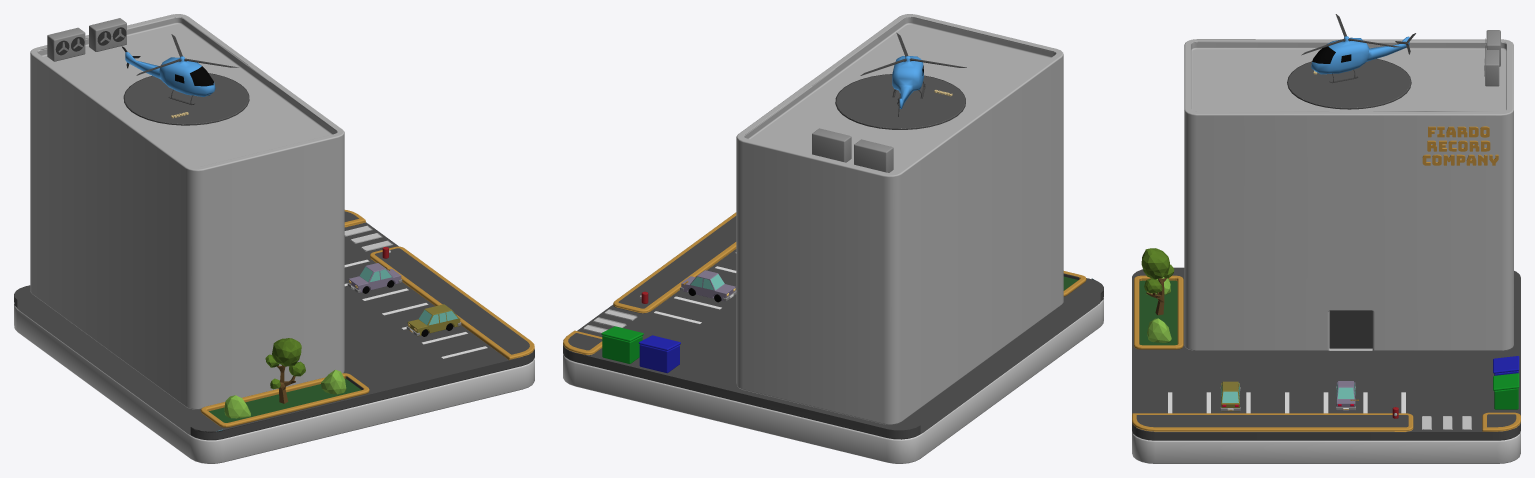
The model's file is record_company_draco.glb.
3 views of the same model, side by side, from view 1: azimuth 30°, elevation 25°; view 2: azimuth 150°, elevation 25°; view 3: azimuth 270°, elevation 25° (orthographic). The views are drawn at different scales.
Parts seen in each view (by area): view 1: building, building.003, base, asphalt, pavement, Cylinder.001, Tree1, Cube.002, Cube, air-con, air-con.001, asphalt.002; view 2: building, base, building.003, asphalt, pavement, Cylinder.001, Cube, air-con.001, air-con, pavement.001; view 3: building, building.003, base, pavement, asphalt, Cylinder.001, company-name, Tree1, asphalt.002, pavement.001, Cube.002, Cube (+2 smaller).
Part boxes in pixels (x1,y1,x2,y2): building: (30, 14, 344, 409); building.003: (14, 222, 508, 431); base: (14, 225, 534, 463); asphalt: (14, 294, 534, 440); pavement: (370, 246, 534, 360); Cylinder.001: (121, 34, 238, 104); Tree1: (265, 338, 305, 403); Cube.002: (406, 304, 461, 336); Cube: (347, 263, 402, 293); air-con: (47, 27, 85, 61); air-con.001: (89, 18, 126, 51); asphalt.002: (344, 259, 487, 358); building: (736, 14, 1063, 424); base: (563, 298, 1103, 463); building.003: (577, 249, 1103, 430); asphalt: (563, 278, 1103, 439); pavement: (613, 212, 736, 313); Cylinder.001: (860, 32, 966, 116); Cube: (680, 270, 736, 302); air-con.001: (812, 128, 851, 162); air-con: (854, 139, 893, 172); pavement.001: (563, 330, 602, 355); building: (1184, 39, 1513, 350); building.003: (1132, 267, 1520, 431); base: (1132, 416, 1520, 463); pavement: (1132, 413, 1413, 432); asphalt: (1132, 276, 1520, 440); Cylinder.001: (1301, 14, 1415, 83); company-name: (1422, 126, 1498, 165); Tree1: (1141, 248, 1174, 315); asphalt.002: (1168, 392, 1405, 413); pavement.001: (1482, 412, 1520, 431); Cube.002: (1220, 381, 1240, 411); Cube: (1336, 381, 1355, 410).
Bounding box in the file's own units: 10 × 8.68 × 10.
